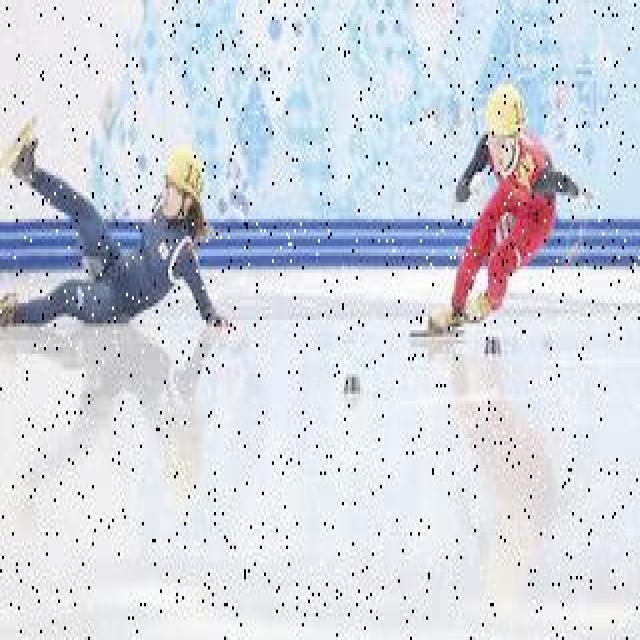fall: (0, 131, 222, 327)
